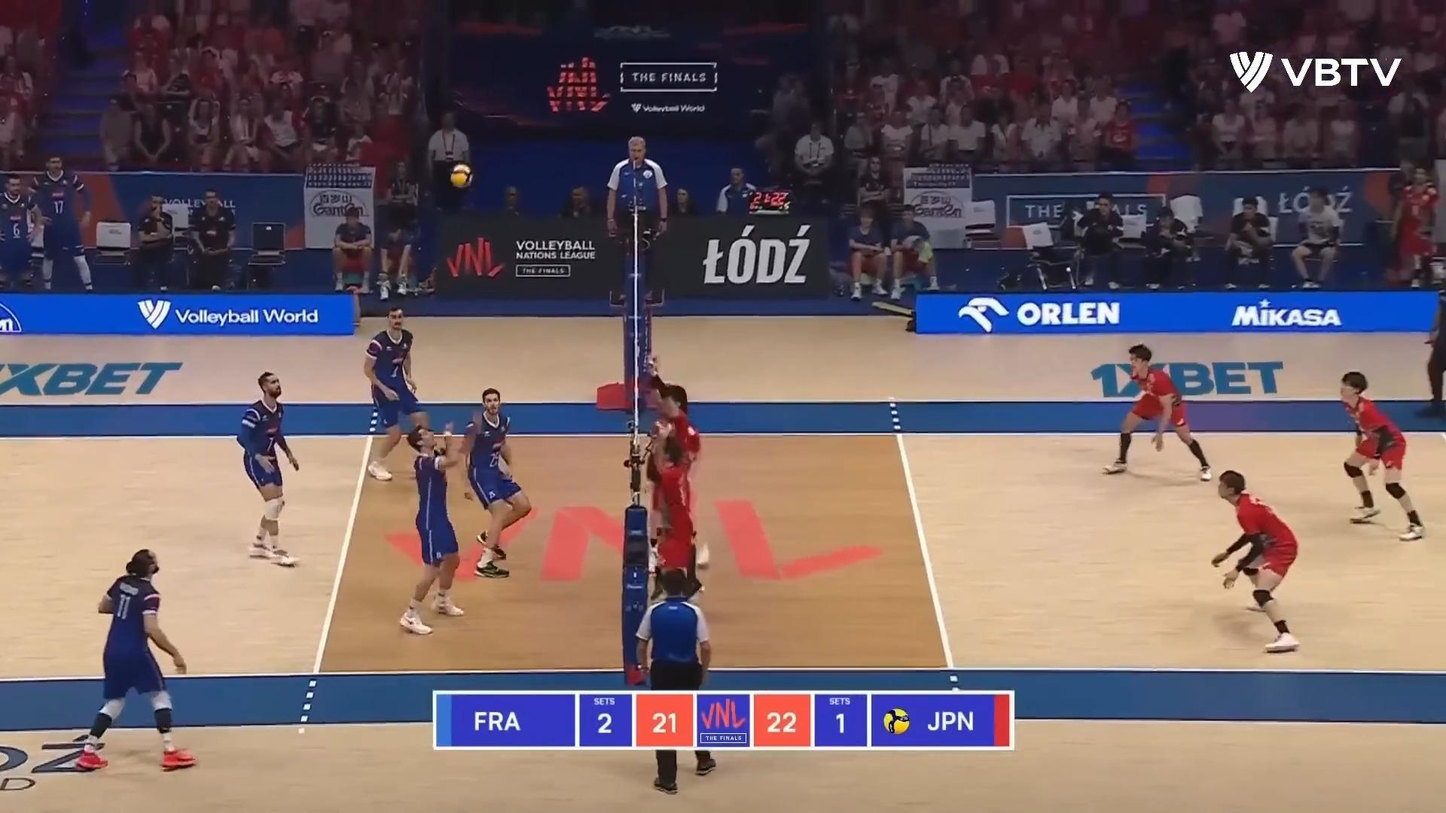ball: (450, 165, 476, 191)
